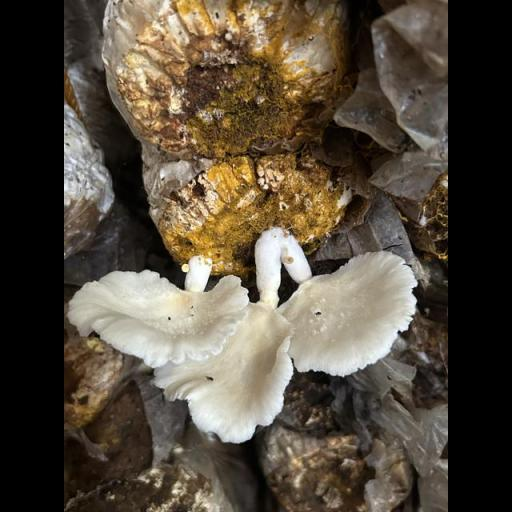White Oyster Mushroom: (64, 226, 420, 448)
